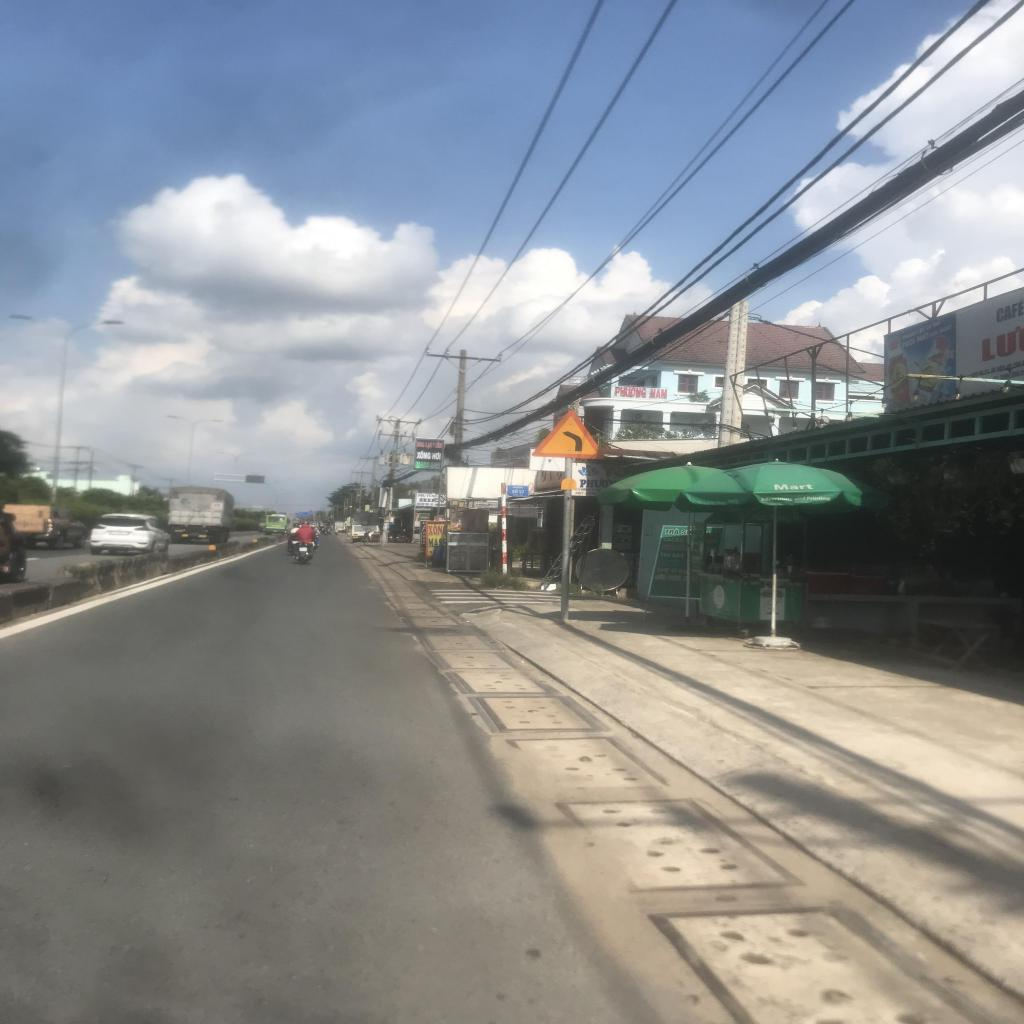cho_ngoat_nguy_hiem_ben_trai: (528, 408, 611, 461)
